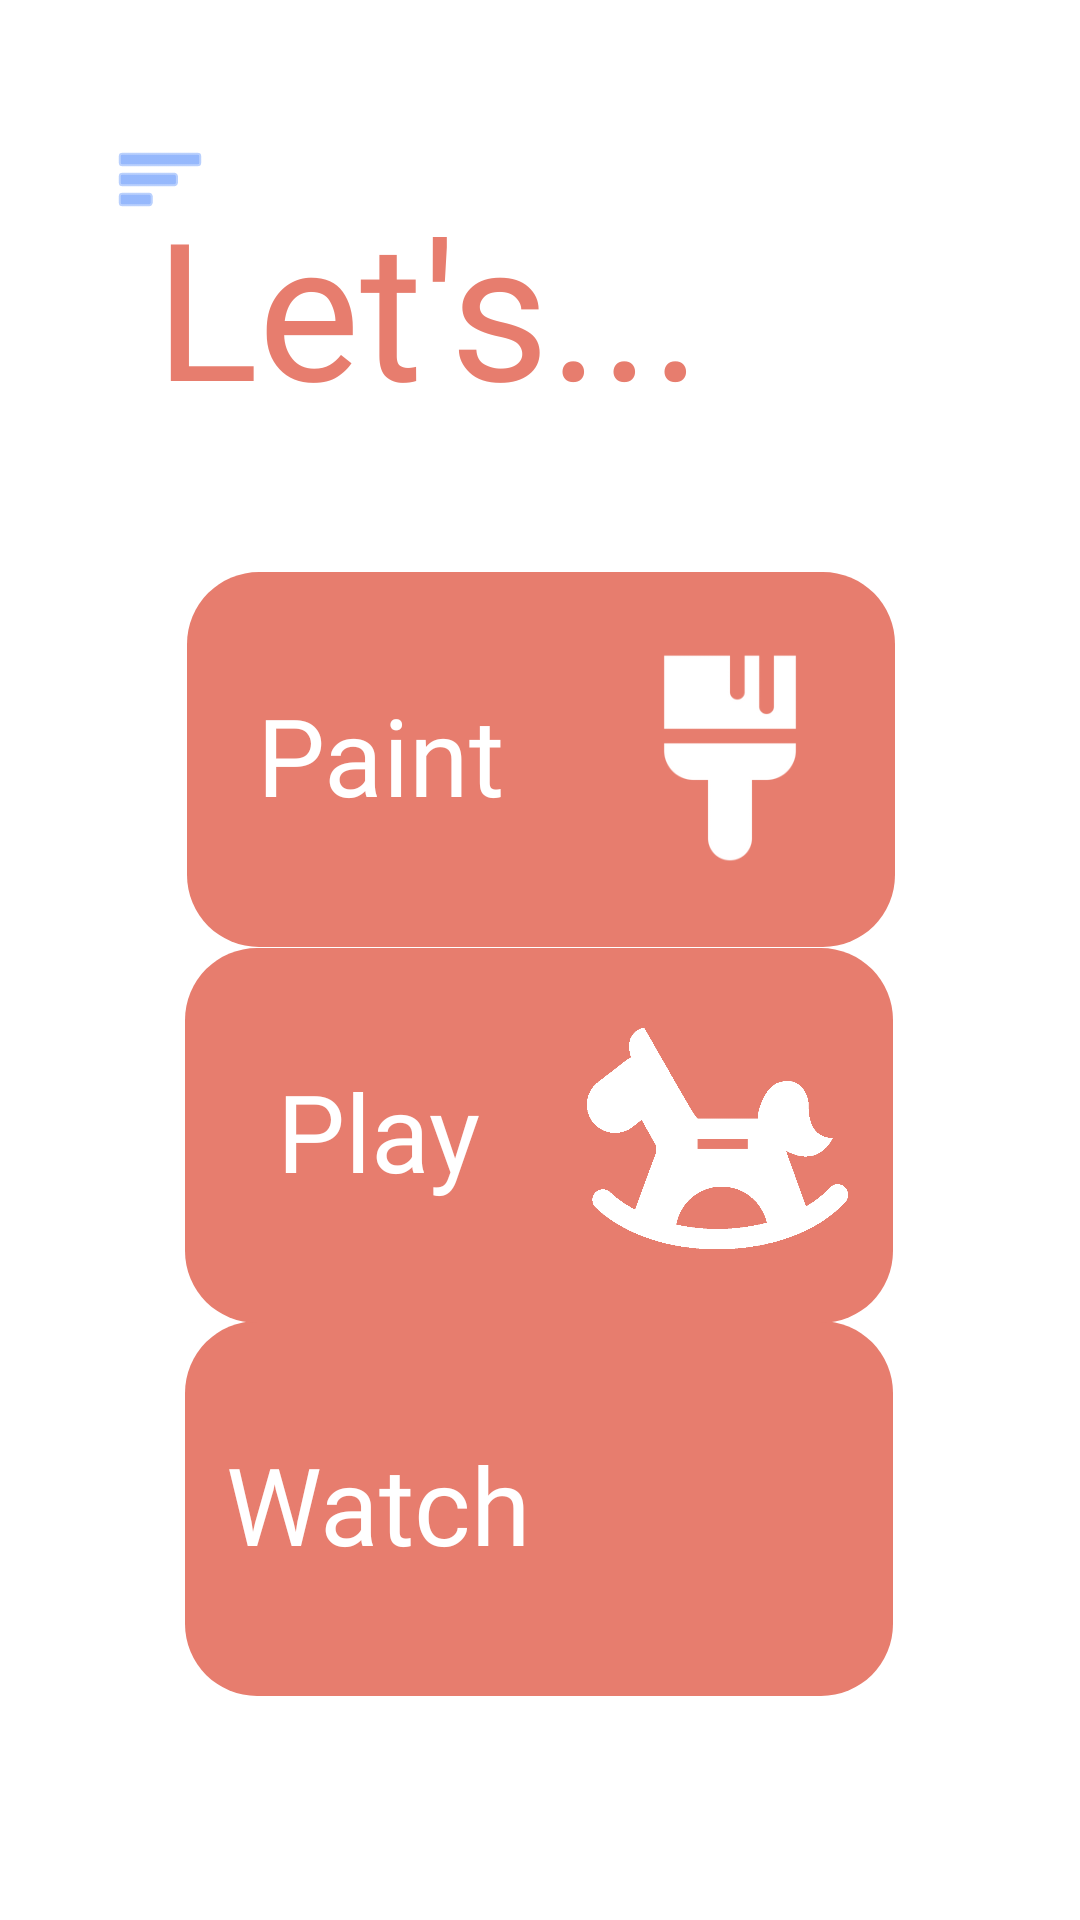

Where to tap for icons on this 1080*1920 app screen, as point (x, y):
horse: point (717, 1138)
sort by size: point (160, 179)
